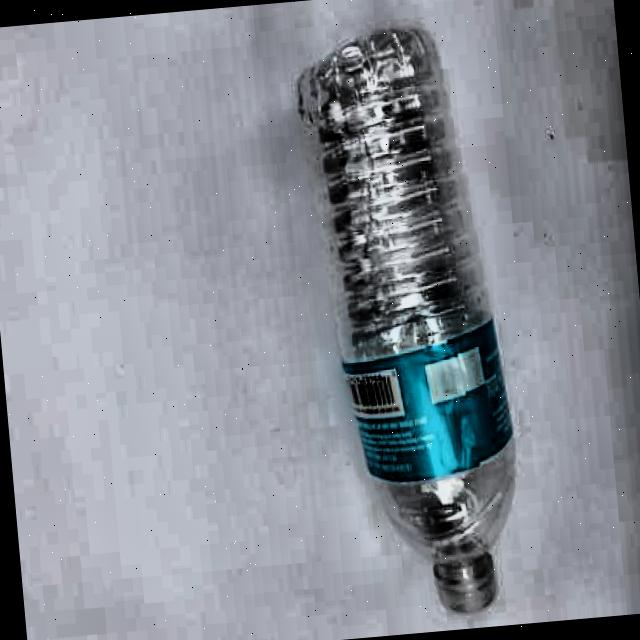plastic: (288, 21, 532, 636)
